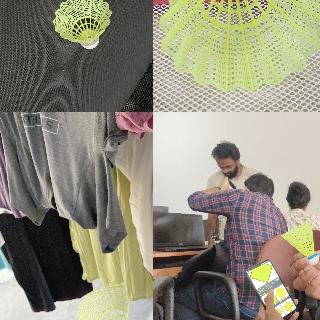shuttlecock: (159, 0, 319, 91), (53, 0, 112, 50), (76, 285, 133, 319), (282, 220, 318, 264)
